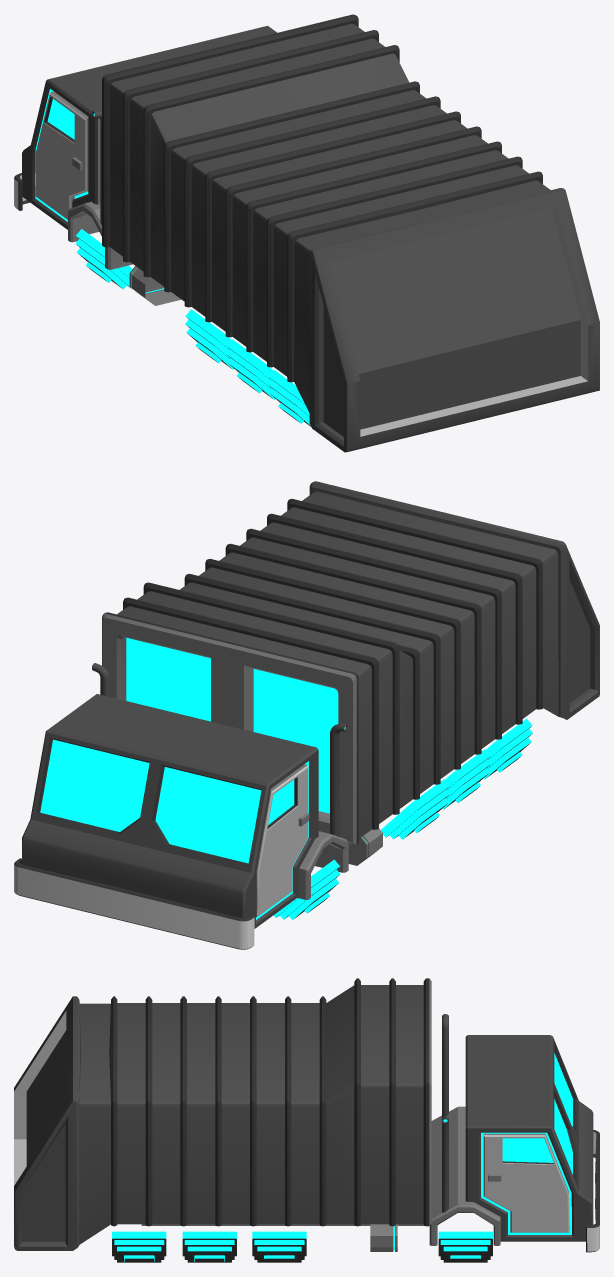
The model's file is SM_Truck_A.fbx.
The picture shows the model from 3 angles, top to bottom: view 1: azimuth 30°, elevation 25°; view 2: azimuth 150°, elevation 25°; view 3: azimuth 270°, elevation 25°; orthographic projection. The views are drawn at different scales.
Visible parts, largest first — view 1: SM_Truck_A; view 2: SM_Truck_A; view 3: SM_Truck_A.
Part boxes in pixels (bbox=[...]): SM_Truck_A: bbox=[14, 14, 599, 452]; SM_Truck_A: bbox=[14, 481, 599, 949]; SM_Truck_A: bbox=[14, 978, 599, 1262].
Bounding box in the file's own units: 100 × 85.46 × 235.
